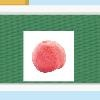raw: (29, 39, 66, 73)
